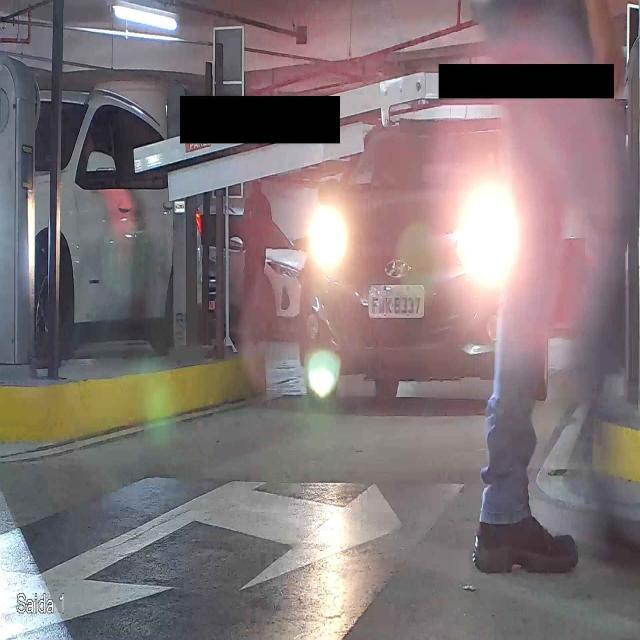old_plate: (366, 283, 426, 321)
